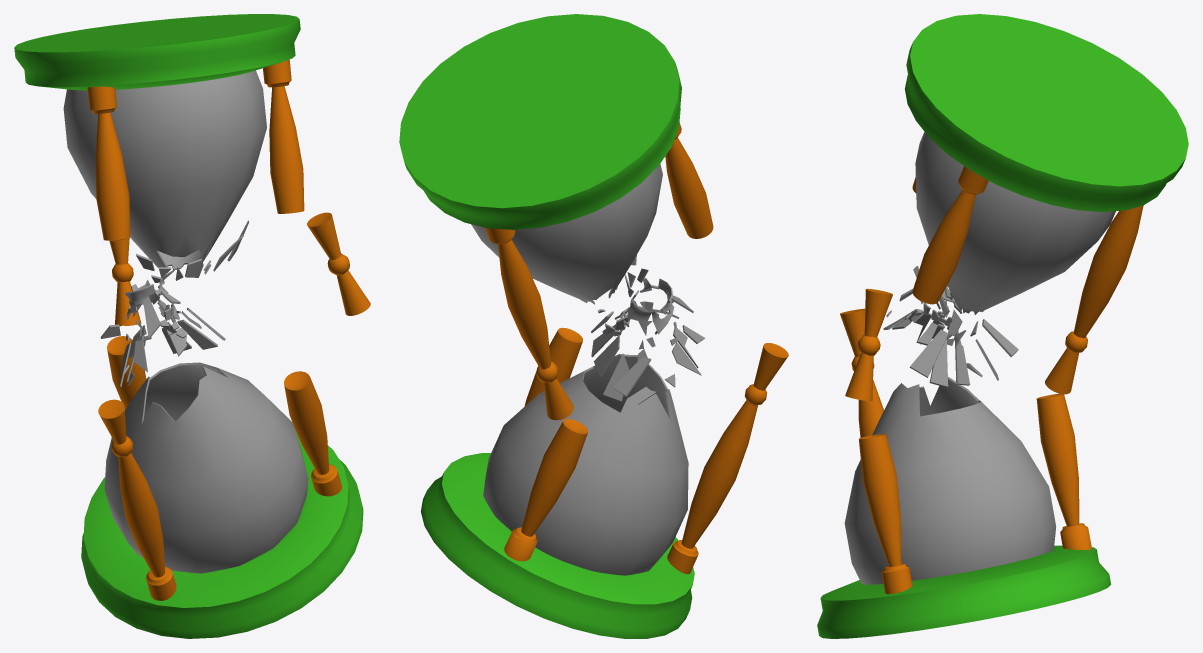
File: Bullet_Time.FBX
The picture shows the model from 3 angles, left to right: view 1: azimuth 30°, elevation 25°; view 2: azimuth 150°, elevation 25°; view 3: azimuth 270°, elevation 25°; orthographic projection. The views are drawn at different scales.
Parts seen in each view (by area): view 1: Object001; view 2: Object001; view 3: Object001.
Boxes of the visible parts, bbox=[...] form: Object001: bbox=[14, 14, 370, 638]; Object001: bbox=[399, 14, 788, 638]; Object001: bbox=[817, 14, 1188, 638].
Size of the model in its own units: 0.3454 by 0.6463 by 0.3658.
